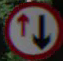Two way: (10, 6, 55, 49)
